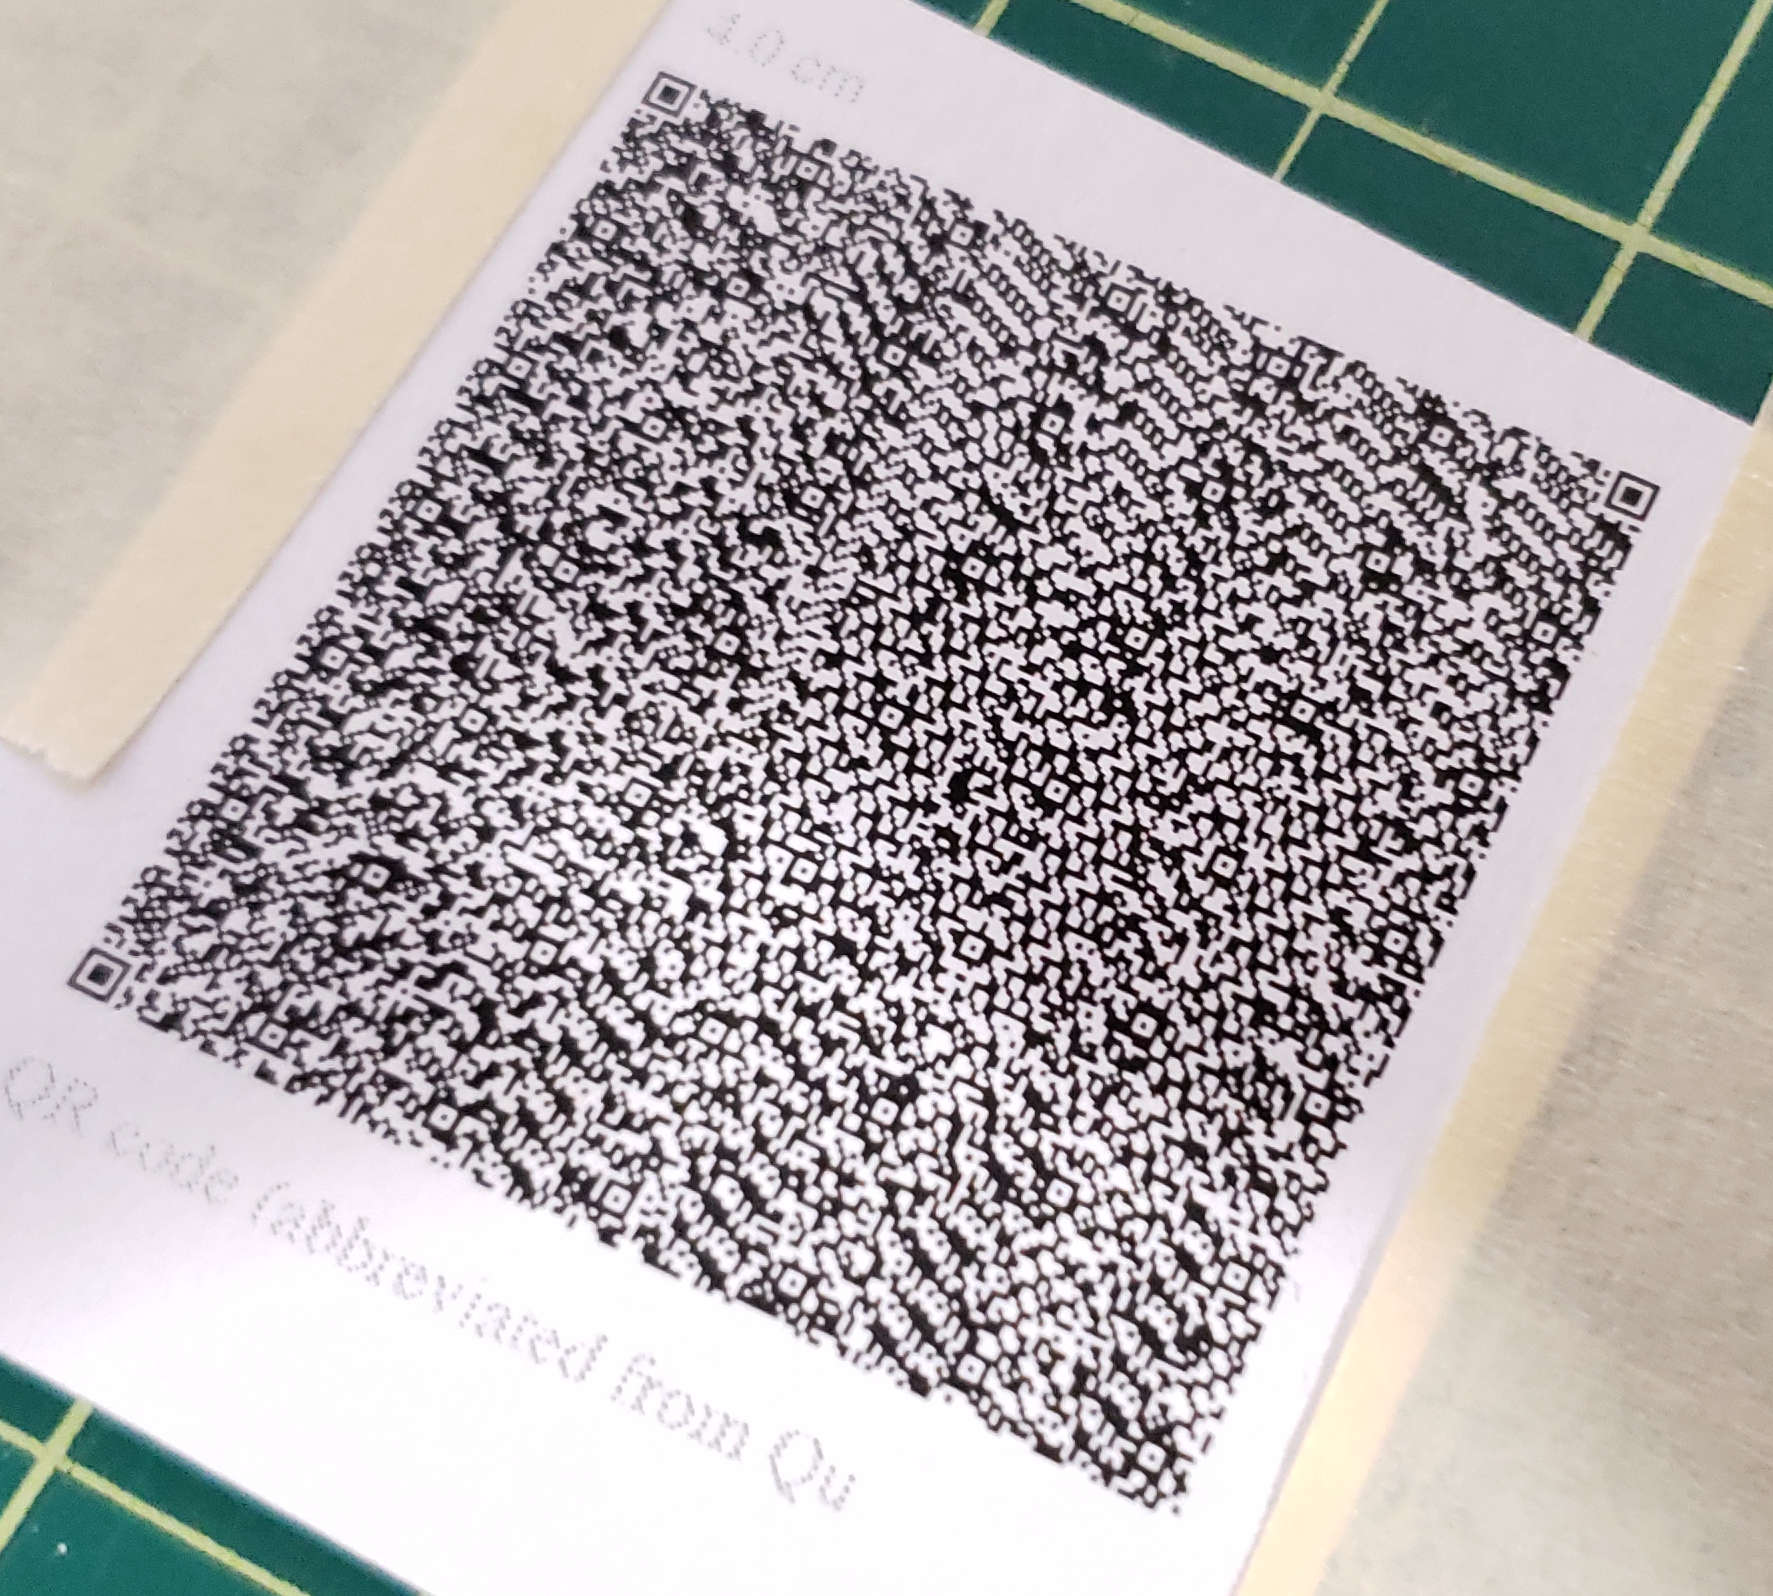QR_CODE: (32, 32, 1714, 1551)
